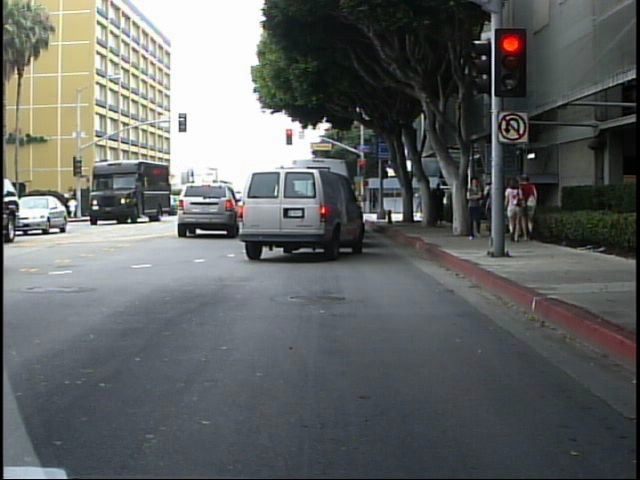person: (520, 171, 544, 247), (504, 170, 528, 244), (469, 175, 489, 242), (431, 175, 447, 230), (64, 190, 80, 221), (412, 185, 424, 217)
